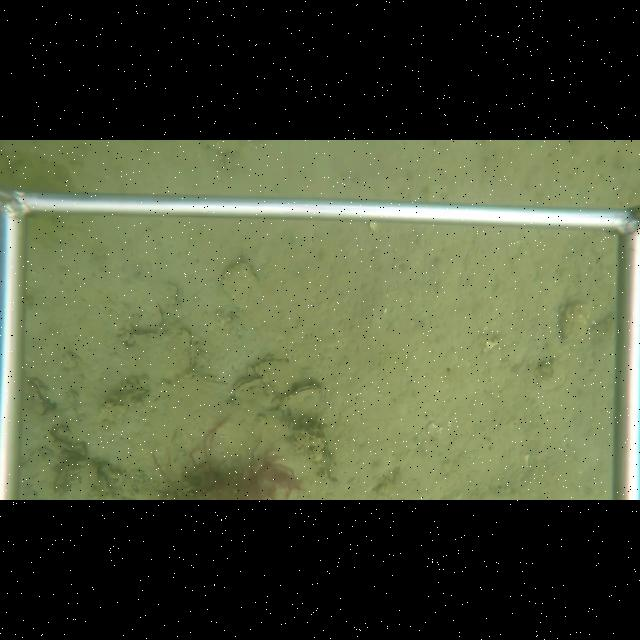Oyster-Closed: (100, 326, 196, 378), (220, 260, 267, 313), (250, 356, 304, 393), (279, 384, 325, 423)
Oyster-Open: (232, 376, 265, 393)
